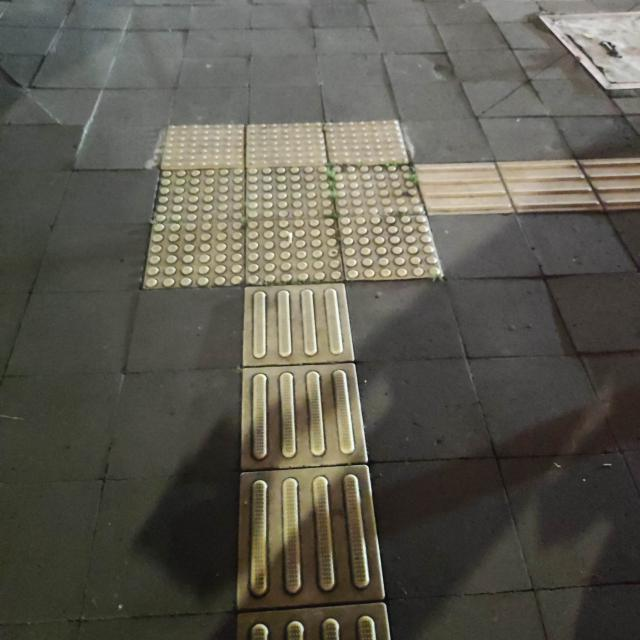kanan: (149, 96, 620, 344)
